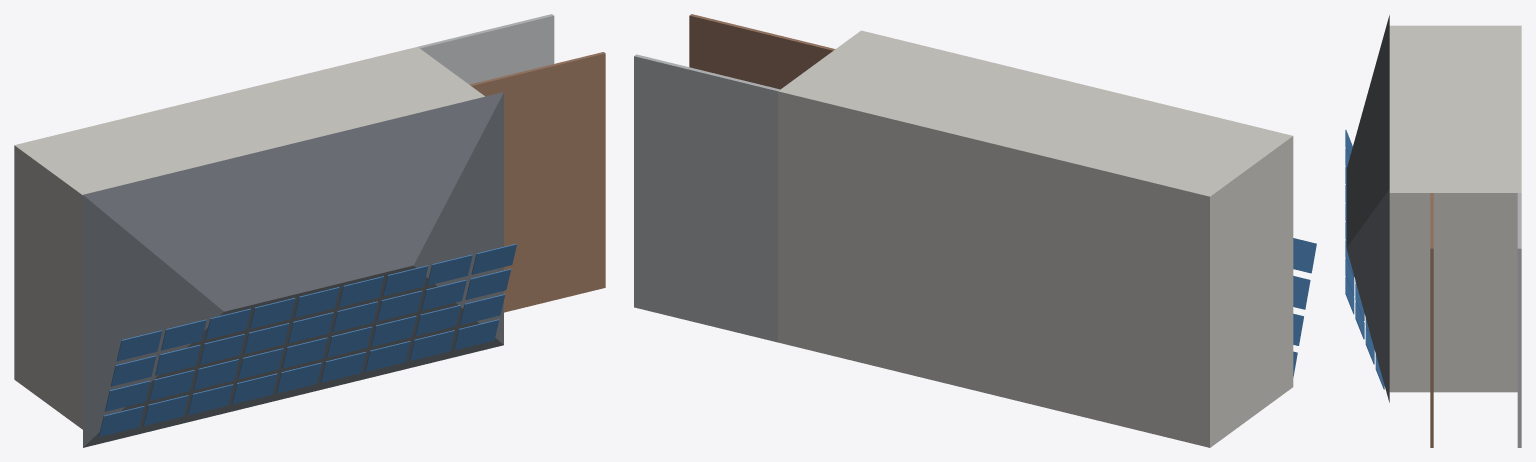
File: generated_e6db4dc46f.glb
The picture shows the model from 3 angles, left to right: view 1: azimuth 30°, elevation 25°; view 2: azimuth 150°, elevation 25°; view 3: azimuth 270°, elevation 25°; orthographic projection. The views are drawn at different scales.
Parts seen in each view (by area): view 1: hip_roof, house_body, front_porch_roof, front_porch_slab, solar_panel_5, solar_panel_28, solar_panel_29, solar_panel_34, solar_panel_3, solar_panel_4, solar_panel_6, solar_panel_10 (+28 smaller); view 2: house_body, front_porch_slab, front_porch_roof, solar_panel_27; view 3: house_body, hip_roof, front_porch_slab, front_porch_roof, solar_panel_35, solar_panel_26, solar_panel_17, solar_panel_34.
Part boxes in pixels (<box>): hip_roof: <box>83,92,503,447</box>; house_body: <box>14,47,484,429</box>; front_porch_roof: <box>469,52,605,312</box>; front_porch_slab: <box>418,14,554,84</box>; solar_panel_5: <box>320,352,366,382</box>; solar_panel_28: <box>161,319,206,350</box>; solar_panel_29: <box>205,308,250,339</box>; solar_panel_34: <box>427,254,472,285</box>; solar_panel_3: <box>232,373,277,404</box>; solar_panel_4: <box>276,362,321,393</box>; solar_panel_6: <box>365,341,410,371</box>; solar_panel_10: <box>149,370,194,400</box>; house_body: <box>778,30,1293,447</box>; front_porch_slab: <box>634,54,779,342</box>; front_porch_roof: <box>689,14,835,89</box>; solar_panel_27: <box>1293,238,1316,273</box>; house_body: <box>1389,25,1521,392</box>; hip_roof: <box>1346,15,1389,402</box>; front_porch_slab: <box>1517,193,1521,447</box>; front_porch_roof: <box>1430,193,1433,447</box>; solar_panel_35: <box>1345,277,1354,314</box>; solar_panel_26: <box>1355,302,1364,339</box>; solar_panel_17: <box>1365,327,1374,364</box>; solar_panel_34: <box>1345,258,1354,295</box>.
Size of the model in its own units: 24.4 by 10.8 by 8.02.
